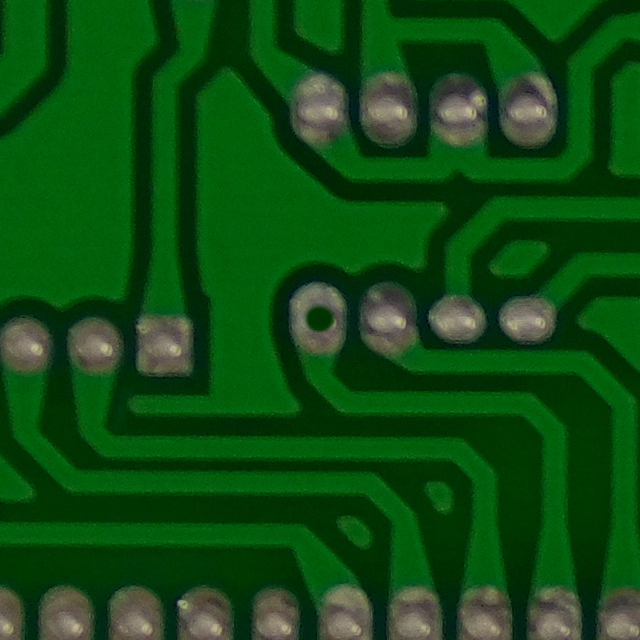missing_hole: (284, 280, 357, 360)
